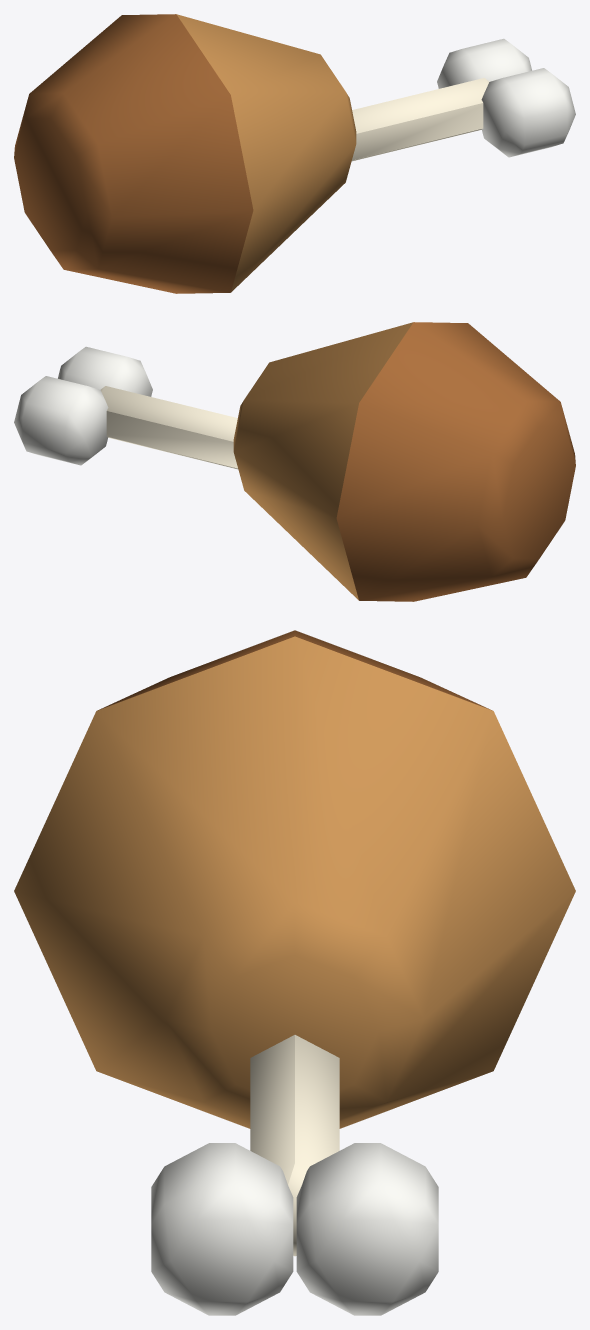
File: P_MedDrumstick.fbx
The picture shows the model from 3 angles, top to bottom: view 1: azimuth 30°, elevation 25°; view 2: azimuth 150°, elevation 25°; view 3: azimuth 270°, elevation 25°; orthographic projection. The views are drawn at different scales.
Parts seen in each view (by area): view 1: M_Drumstick; view 2: M_Drumstick; view 3: M_Drumstick.
Boxes of the visible parts, <box> form: M_Drumstick: <box>14,14,575,293</box>; M_Drumstick: <box>14,322,575,601</box>; M_Drumstick: <box>14,630,575,1315</box>.
Size of the model in its own units: 0.3125 by 0.17 by 0.17.
Materials: 1 (1 with a texture image).
